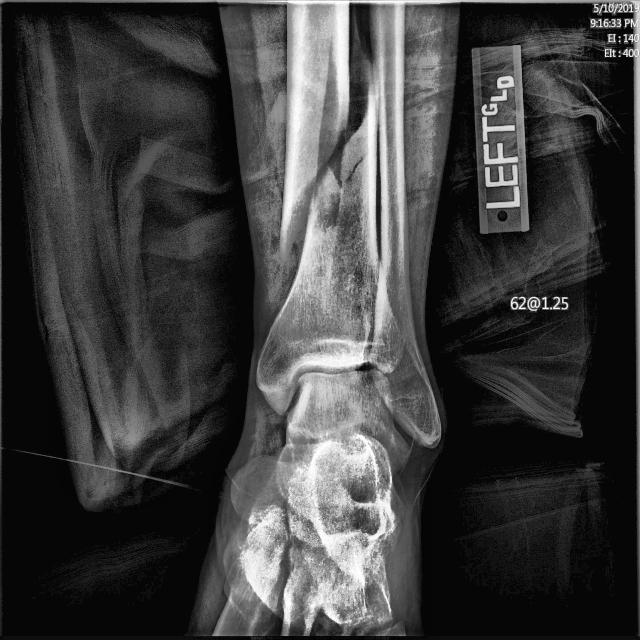messed_up_angle: (282, 18, 378, 265)
